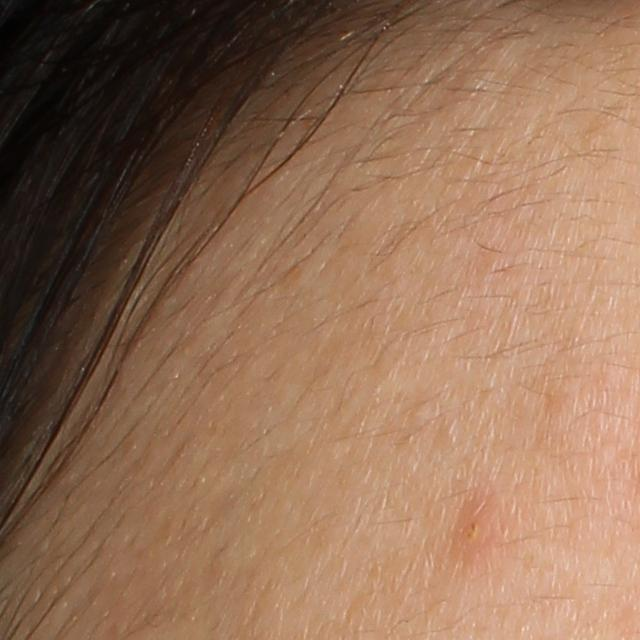comedo: (407, 401, 433, 425)
